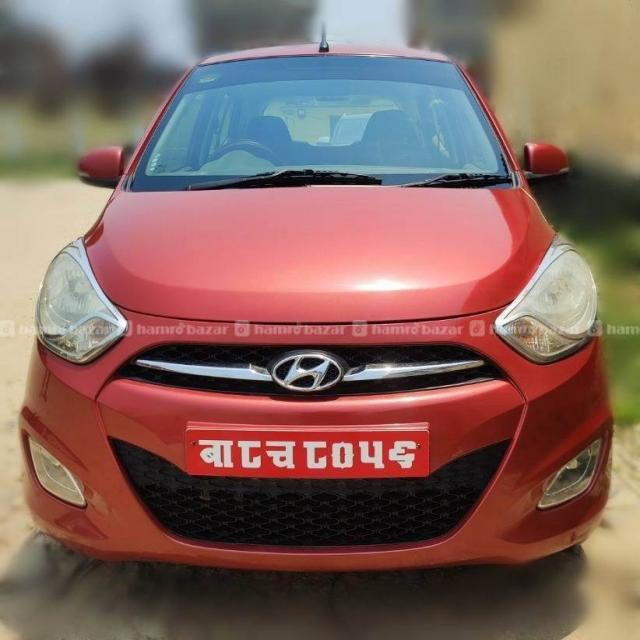License-plate: (182, 422, 432, 478)
